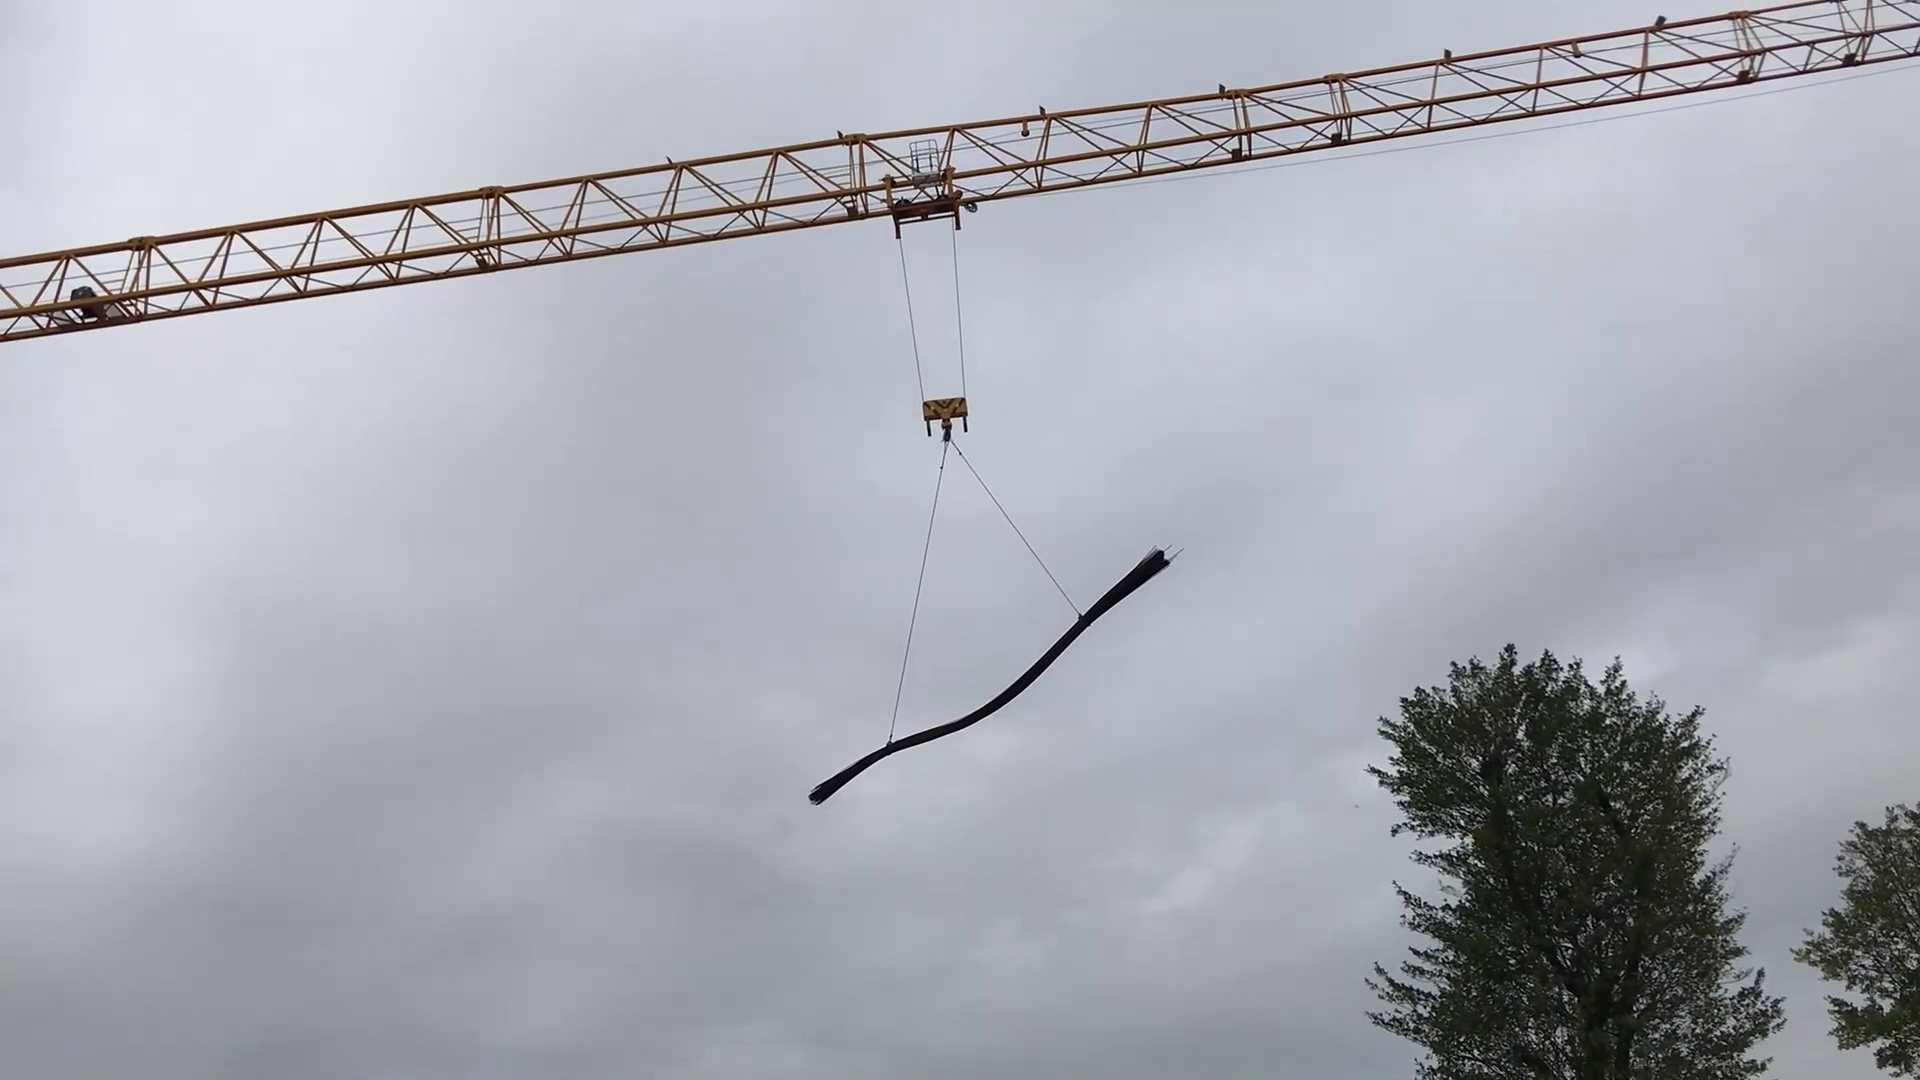hook: (919, 396, 975, 444)
rebar: (796, 535, 1191, 816)
